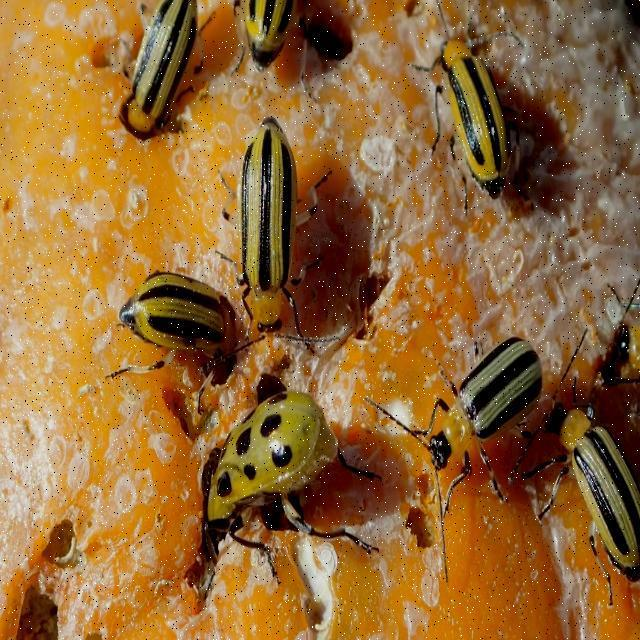gusano_verde: (184, 380, 344, 532)
trips: (411, 0, 532, 214), (400, 333, 548, 500), (550, 359, 640, 595), (224, 106, 308, 305), (108, 0, 202, 146), (127, 241, 225, 379), (219, 0, 311, 80), (606, 280, 640, 394)
